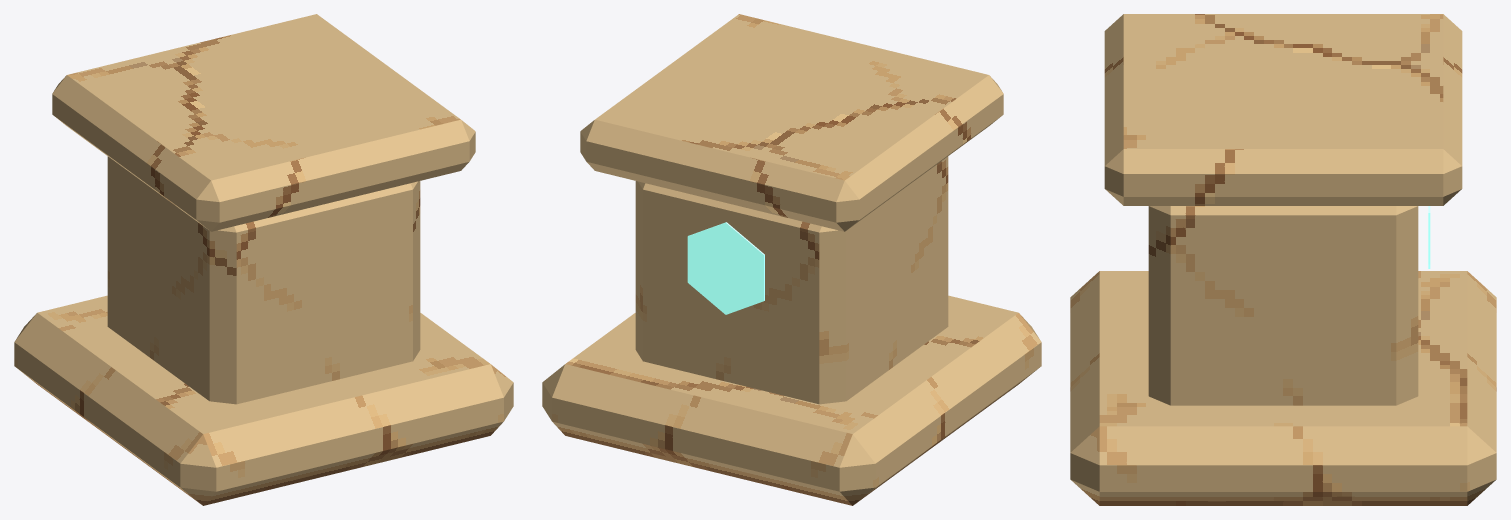
File: totem_dominio.fbx
3 views of the same model, side by side, from view 1: azimuth 30°, elevation 25°; view 2: azimuth 150°, elevation 25°; view 3: azimuth 270°, elevation 25° (orthographic). The views are drawn at different scales.
Parts seen in each view (by area): view 1: deserto_totem_dominio; view 2: deserto_totem_dominio; view 3: deserto_totem_dominio.
Boxes of the visible parts, x1,y1,x2,y2 form: deserto_totem_dominio: [14, 14, 513, 505]; deserto_totem_dominio: [542, 14, 1041, 505]; deserto_totem_dominio: [1070, 14, 1496, 505].
Size of the model in its own units: 68 by 61 by 68.
Materials: 2 (1 with a texture image).
